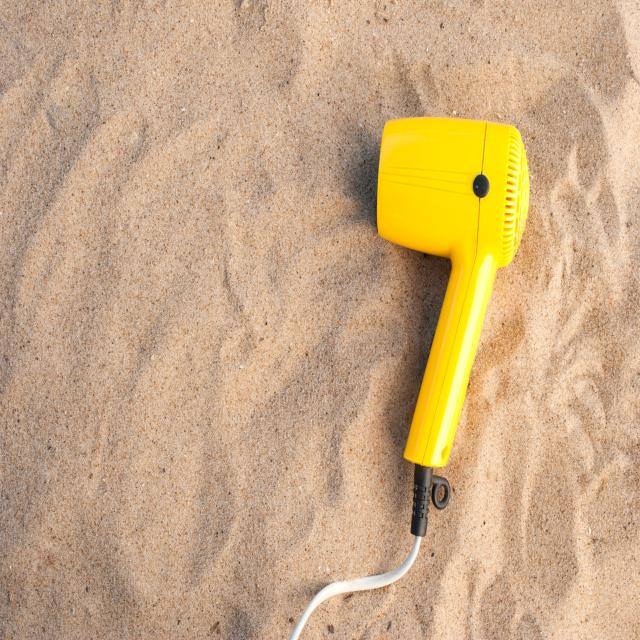dryer: (376, 115, 530, 538)
